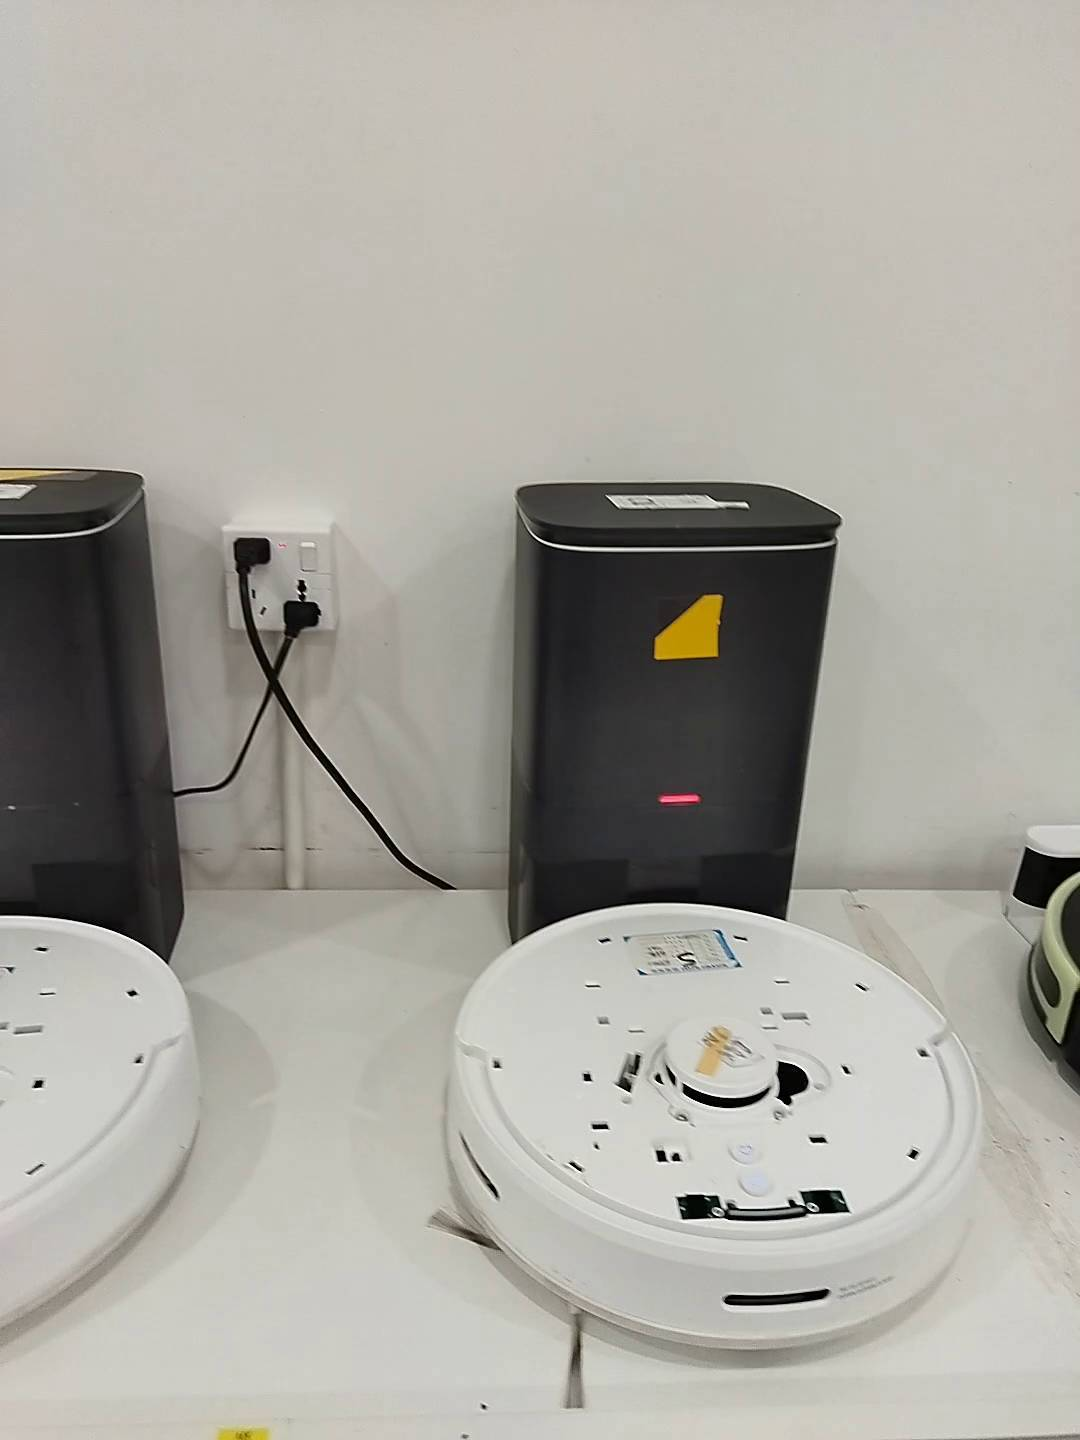dust collecting barrel: (508, 478, 842, 949), (1, 461, 183, 974)
